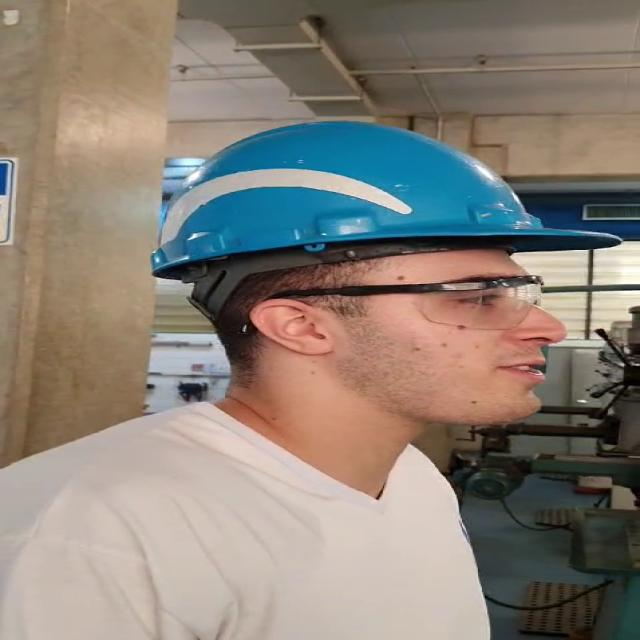oculos-epi: (268, 276, 541, 329)
